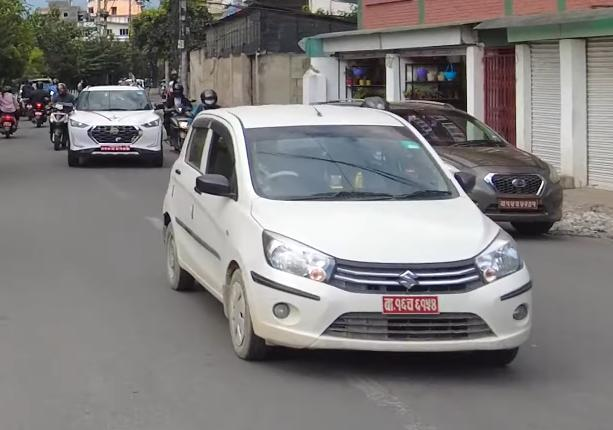car: (170, 96, 533, 364), (359, 100, 562, 236), (67, 82, 164, 170)
scooter: (43, 97, 71, 151)
